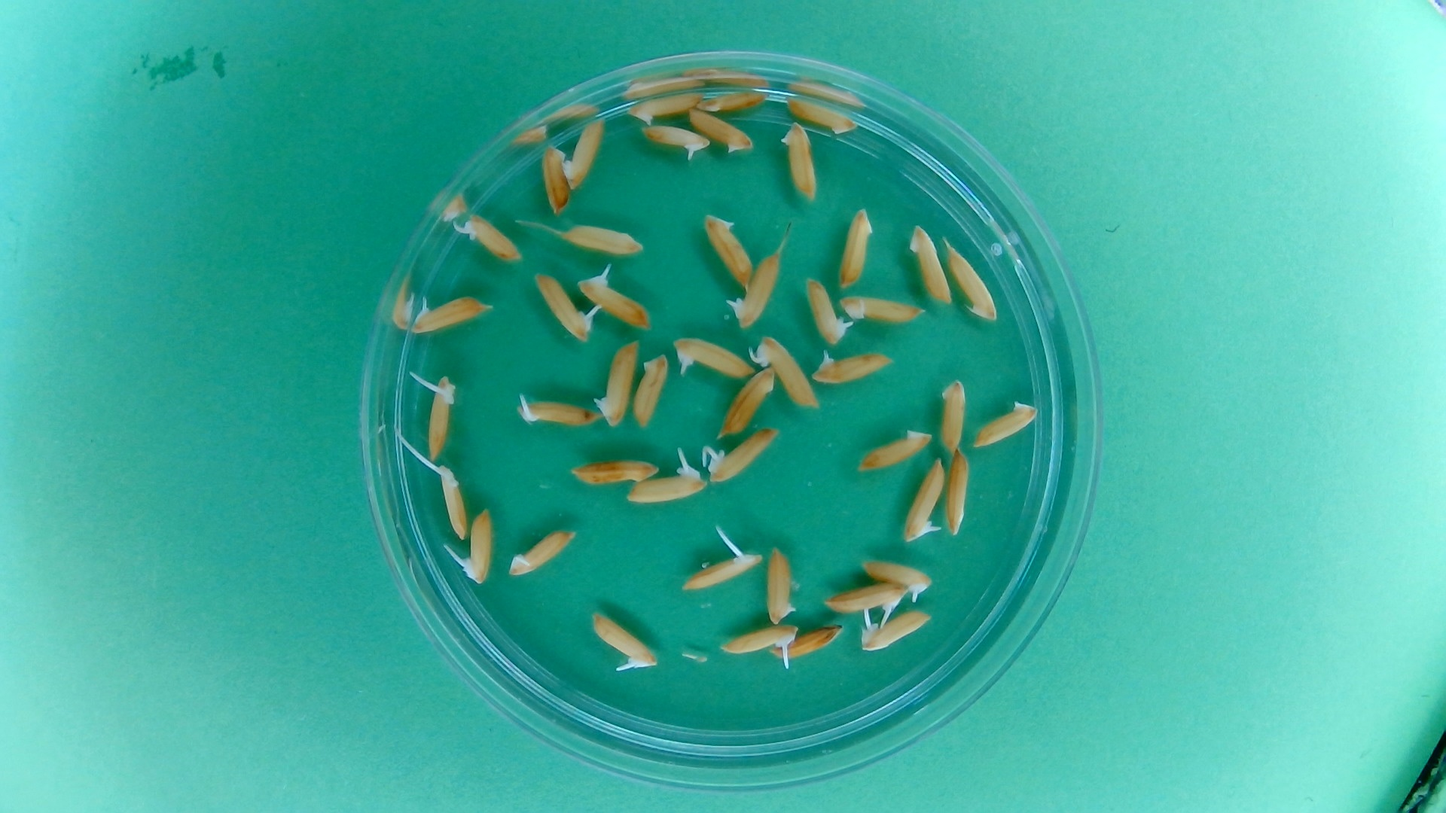no: (717, 362, 776, 440), (943, 241, 999, 323), (591, 336, 640, 427), (700, 209, 755, 288), (853, 424, 934, 475), (907, 221, 954, 307), (560, 114, 607, 191), (971, 397, 1040, 449), (776, 120, 819, 202), (687, 106, 755, 155), (566, 453, 660, 488), (783, 94, 861, 136), (837, 206, 876, 290), (630, 350, 670, 430), (560, 220, 646, 257), (775, 623, 846, 666), (763, 544, 800, 626), (837, 291, 926, 324), (538, 140, 572, 217), (944, 447, 973, 536), (937, 376, 969, 452), (692, 86, 767, 114), (627, 93, 698, 120)
yes: (576, 266, 654, 332), (755, 333, 820, 410), (533, 270, 596, 344), (704, 425, 783, 484), (726, 250, 782, 329), (588, 608, 658, 671), (901, 455, 947, 543), (672, 333, 755, 380), (507, 525, 579, 579), (408, 291, 493, 334), (678, 548, 761, 592), (624, 463, 707, 506), (858, 607, 932, 653), (717, 621, 801, 660), (459, 212, 522, 263), (810, 348, 896, 385), (513, 393, 599, 430), (820, 580, 907, 616), (804, 276, 850, 344), (422, 373, 457, 461), (459, 505, 496, 585), (859, 556, 932, 596), (435, 462, 471, 542), (639, 123, 711, 158)
